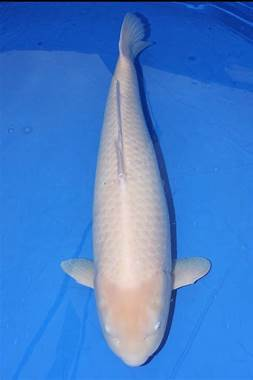white: (58, 12, 212, 368)
